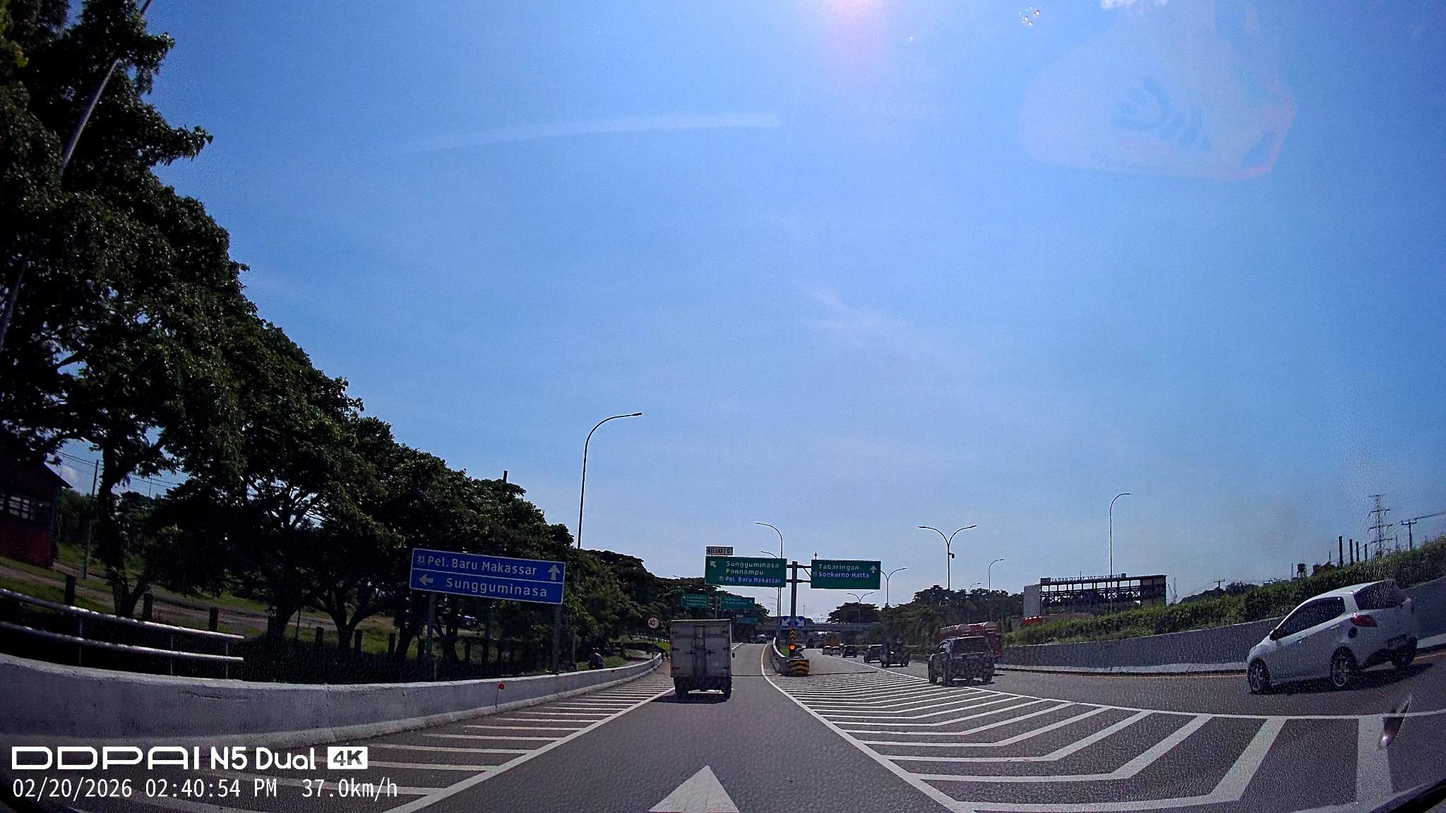rambu_teks: (411, 549, 565, 604), (705, 556, 787, 586), (812, 559, 881, 591)
